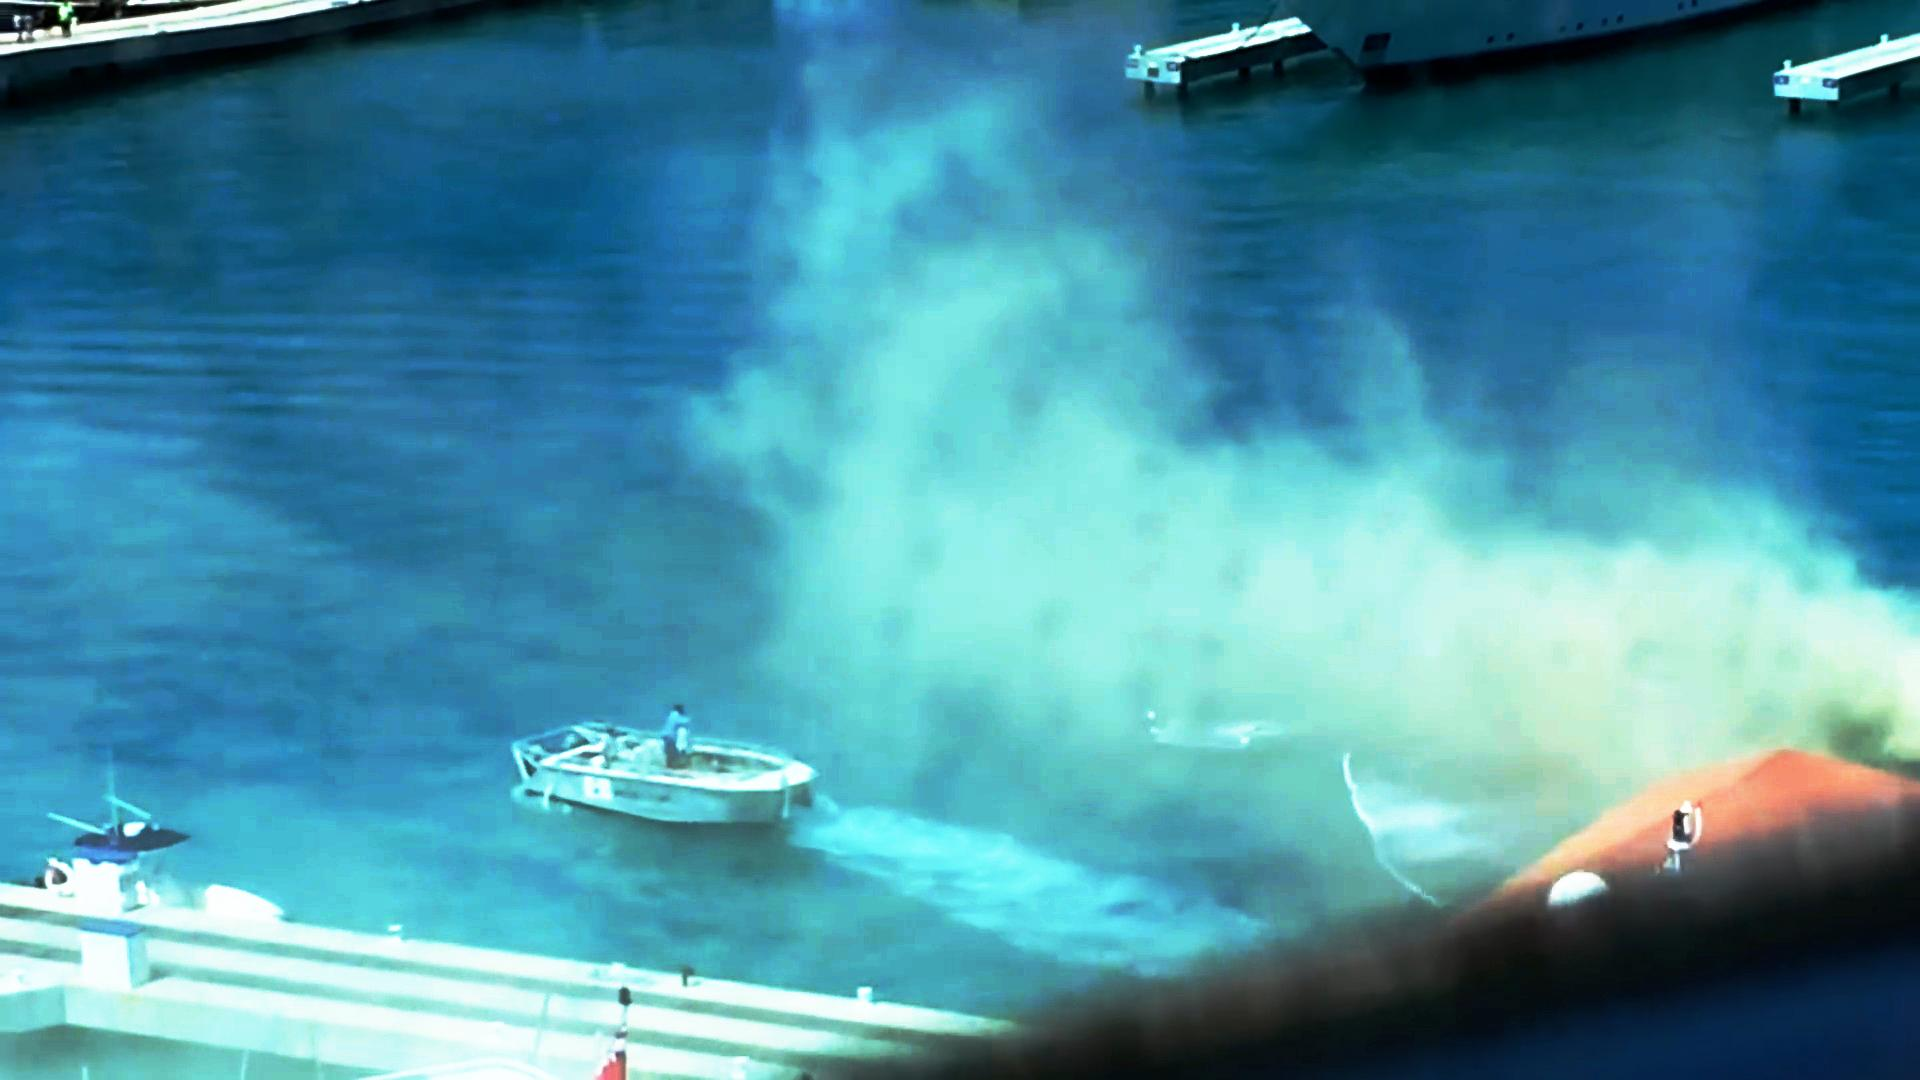smoke: (814, 406, 1920, 786), (795, 8, 1237, 761), (1436, 443, 1920, 778)
